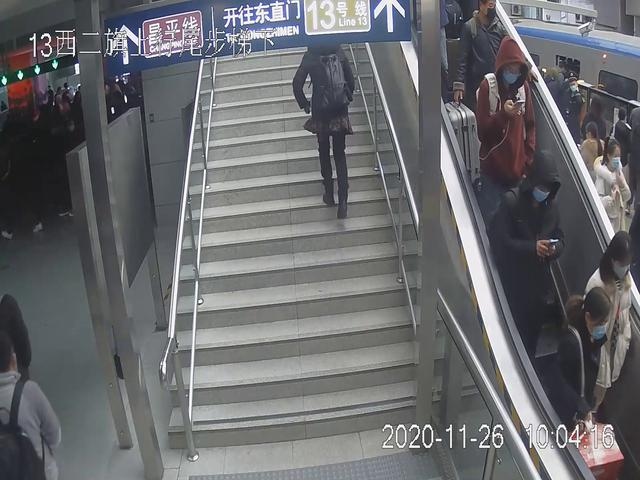person: (488, 148, 568, 384), (474, 37, 539, 230), (446, 1, 512, 185), (292, 42, 359, 221), (581, 230, 640, 427)
